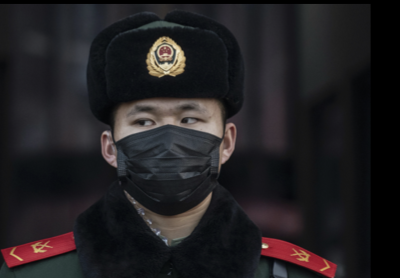with_mask: (113, 100, 225, 214)
